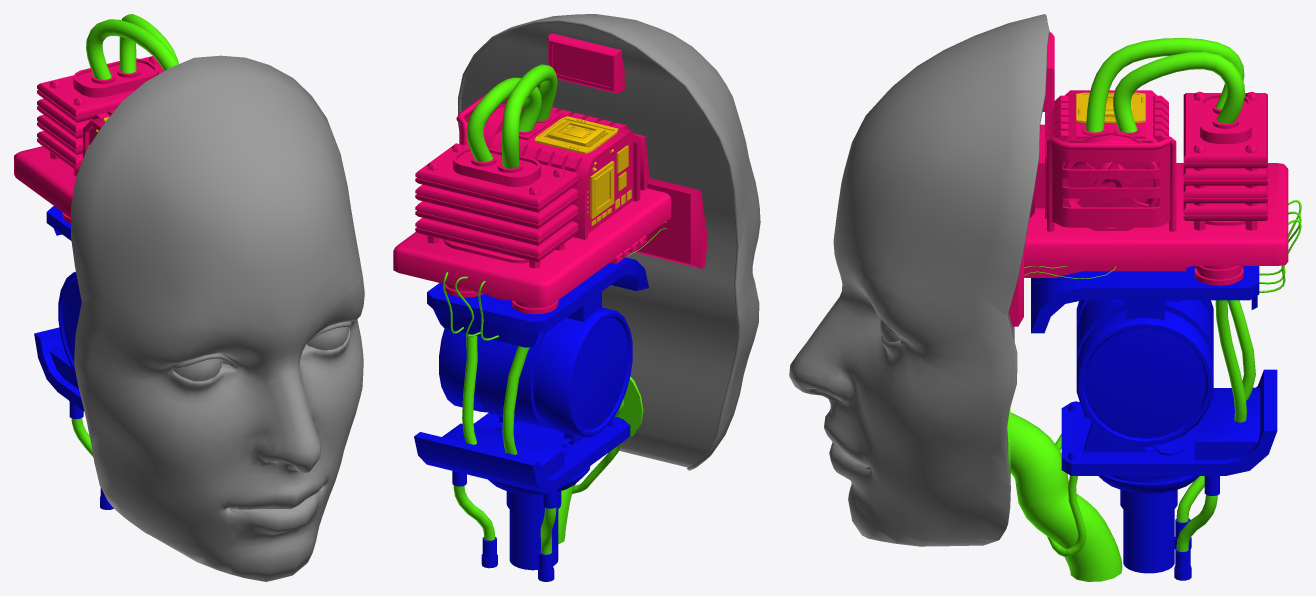
The model's file is robot.fbx.
3 views of the same model, side by side, from view 1: azimuth 30°, elevation 25°; view 2: azimuth 150°, elevation 25°; view 3: azimuth 270°, elevation 25° (orthographic). The views are drawn at different scales.
Visible parts, largest first — view 1: mask, system, system_2, tube; view 2: mask, system, system_2, tube, process; view 3: mask, system_2, system, tube, process.
Part boxes in pixels (<box>): mask: <box>71,55,364,581</box>; system: <box>14,56,163,223</box>; system_2: <box>34,206,113,509</box>; tube: <box>71,14,178,457</box>; mask: <box>458,14,760,470</box>; system: <box>393,33,707,314</box>; system_2: <box>414,257,648,581</box>; tube: <box>442,64,666,554</box>; process: <box>534,116,631,226</box>; mask: <box>789,14,1049,546</box>; system_2: <box>1031,266,1277,580</box>; system: <box>1008,32,1288,326</box>; tube: <box>1007,38,1301,581</box>; process: <box>1076,92,1145,122</box>.
Size of the model in its own units: 161 by 279 by 243.
